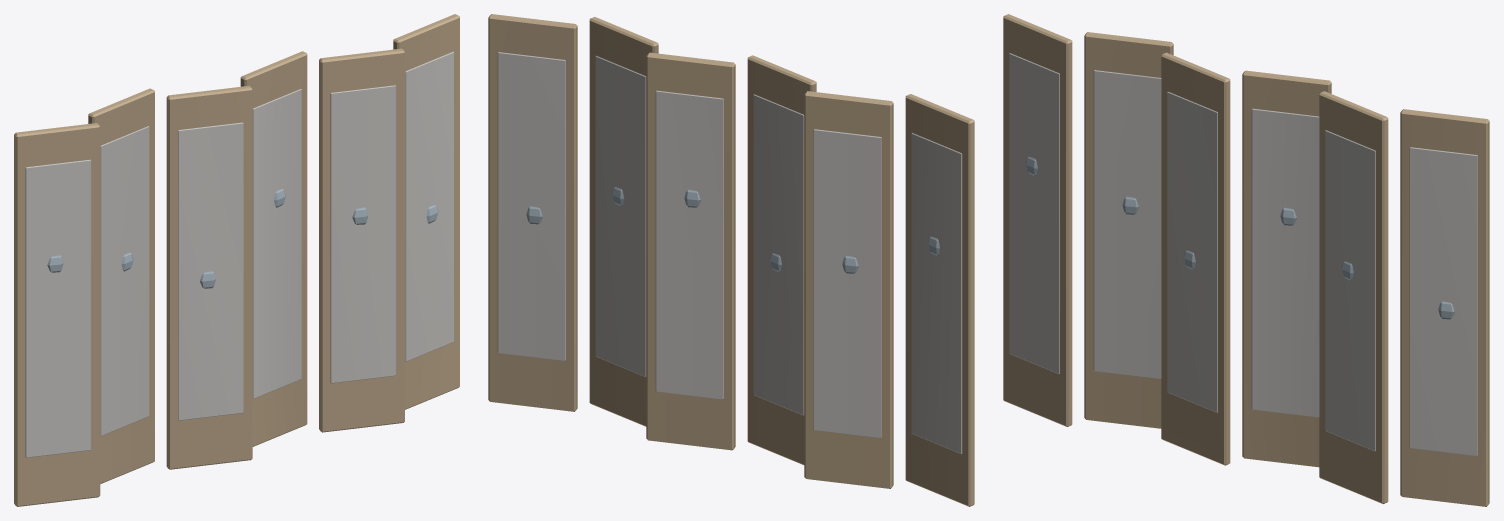
File: furn_folding_screen__oak.glb
3 renders of one model, left to right at view 1: azimuth 30°, elevation 25°; view 2: azimuth 150°, elevation 25°; view 3: azimuth 330°, elevation 25°, orthographic. The views are drawn at different scales.
Size of the model in its own units: 1.8 by 1.4 by 0.1803.
